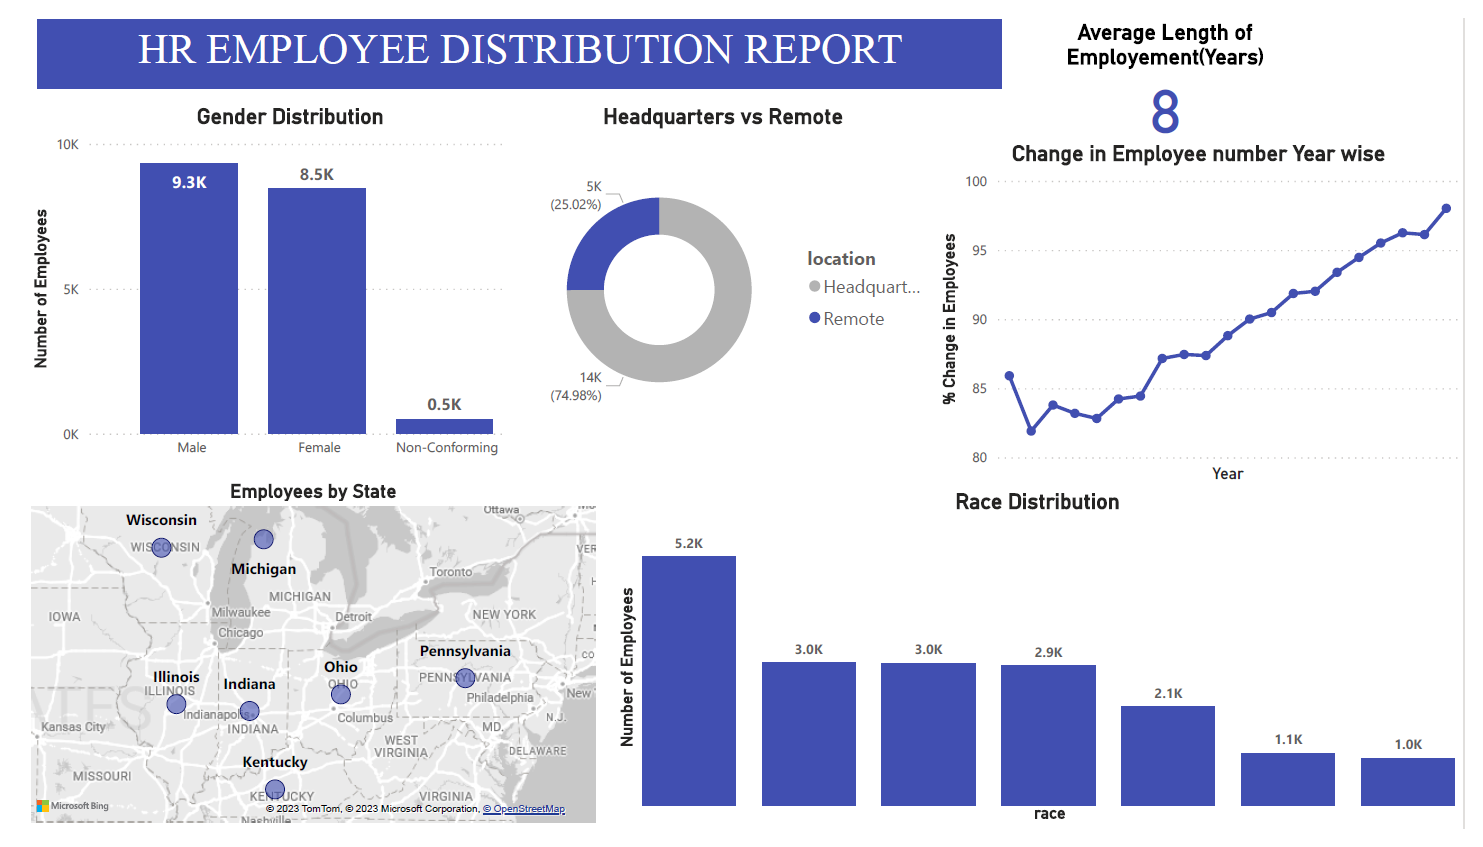

The dashboard page shown, as its layout file describes it:
{"tool":"powerbi","page":{"name":"Page 1","canvas":[1280,720],"ordinal":0},"visuals":[{"type":"textbox","box":[9.8,0,860.6,62.3],"z":0},{"type":"card","title":"Average Length of Employement(Years)","fields":{"Values":["Sum(avg_length_employement.avg_length_employement)"]},"box":[870.4,0,288.5,107.6],"z":1000},{"type":"columnChart","title":"Gender Distribution","fields":{"Category":["gender.gender"],"Y":["Sum(gender.count)"]},"box":[0,74.6,470.6,323.9],"z":2000},{"type":"donutChart","title":"Headquarters vs Remote","fields":{"Y":["Sum(location.count)"],"Category":["location.location"]},"box":[426.6,74.6,388.7,310.5],"z":3000},{"type":"lineChart","title":"Change in Employee number Year wise","fields":{"Category":["employee_change.Year"],"Y":["Sum(employee_change.net_change_percent)"]},"box":[809.2,107.6,470.6,310.5],"z":3001},{"type":"map","title":"Employees by State","fields":{"Category":["state.location_state","state.count"]},"box":[0,409.5,512.2,310.5],"z":3002},{"type":"clusteredColumnChart","title":"Race Distribution","fields":{"Category":["race.race"],"Y":["Sum(race.count)"]},"box":[522,418.1,757.9,301.9],"z":3003}]}

Visuals, with their boxes in screenshot pixels (x1, y1, x2, y2), scaled from the page's 1280x720 canvas onto the 1483x847 screenshot:
textbox: 11,0,1008,73
"Average Length of Employement(Years)" card: 1008,0,1343,127
"Gender Distribution" columnChart: 0,88,545,469
"Headquarters vs Remote" donutChart: 494,88,945,453
"Change in Employee number Year wise" lineChart: 938,127,1482,492
"Employees by State" map: 0,482,593,846
"Race Distribution" clusteredColumnChart: 605,492,1482,846
